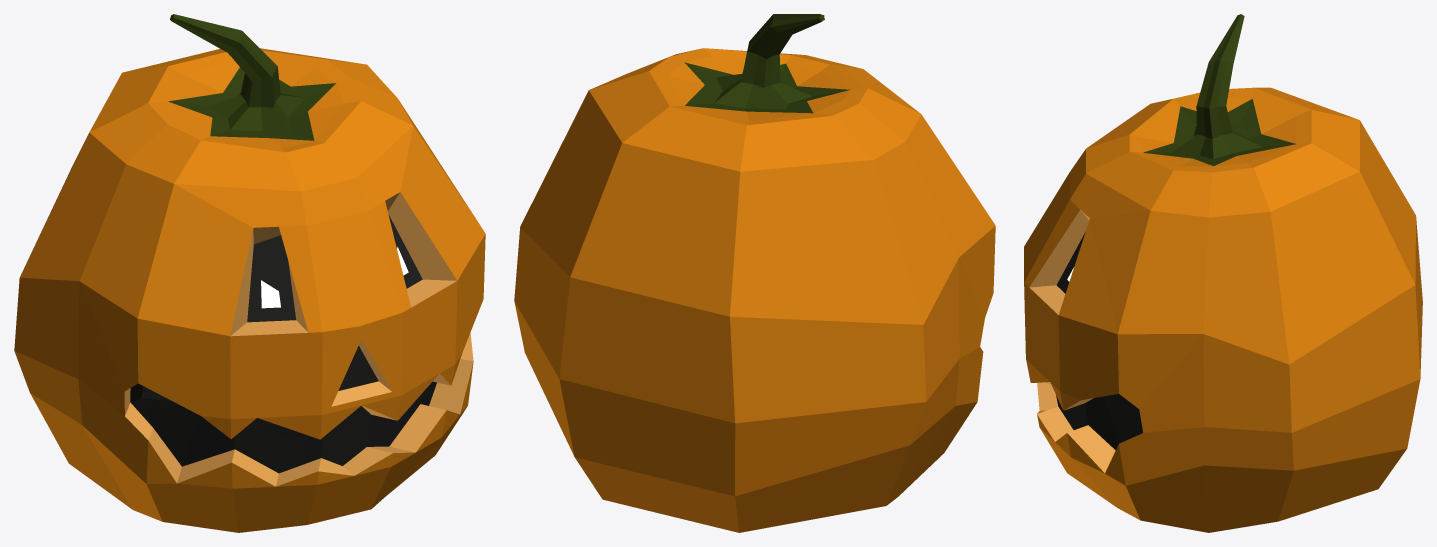
File: jack_o_lantern.glb
3 views of the same model, side by side, from view 1: azimuth 30°, elevation 25°; view 2: azimuth 150°, elevation 25°; view 3: azimuth 270°, elevation 25° (orthographic). The views are drawn at different scales.
Parts seen in each view (by area): view 1: jack_o_lantern; view 2: jack_o_lantern; view 3: jack_o_lantern.
Boxes of the visible parts, bbox=[...] form: jack_o_lantern: bbox=[14, 14, 485, 532]; jack_o_lantern: bbox=[514, 14, 995, 532]; jack_o_lantern: bbox=[1024, 14, 1422, 532].
Bounding box in the file's own units: 0.1846 × 0.2058 × 0.1731.
2 materials, 2 textured.
